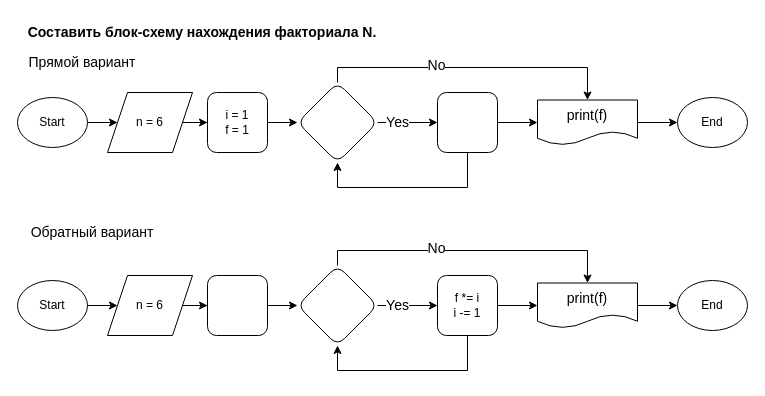
Some shapes in this 765 by 396 pixel diagram are drawn without their labels. Each missing label, with the centre of its shape:
"f *= i i += 1" goes at point 467,122.
"i <= n" goes at point 337,122.
"i = n f = 1" goes at point 237,305.
"i >= 1" goes at point 337,305.
